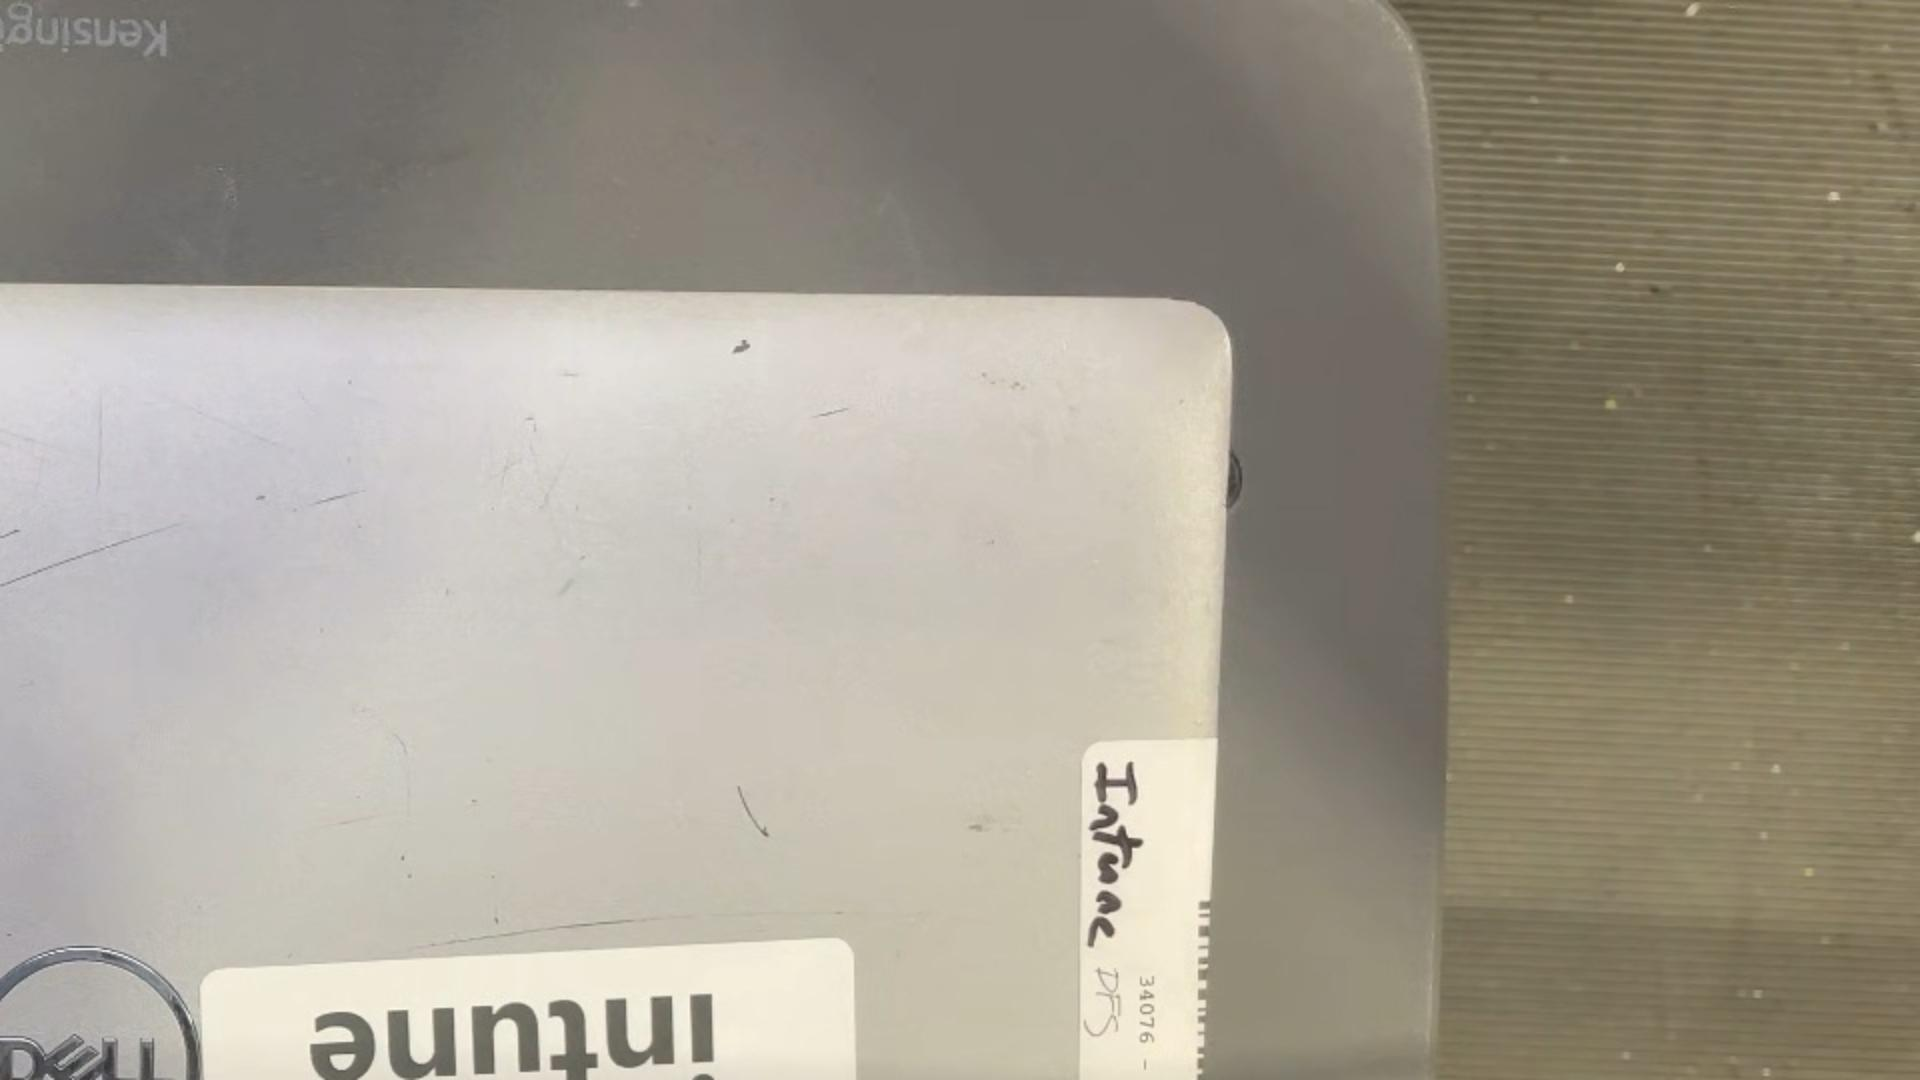chip: (728, 335, 756, 356)
scratches: (414, 910, 857, 952), (0, 520, 185, 591), (160, 393, 301, 458), (527, 443, 558, 534), (388, 728, 413, 820), (735, 782, 773, 840), (293, 487, 368, 513), (538, 451, 570, 512), (319, 812, 386, 832), (0, 439, 50, 465), (0, 426, 54, 450), (34, 429, 47, 492), (487, 459, 524, 481), (95, 393, 103, 492), (810, 405, 853, 421), (500, 448, 510, 488), (696, 530, 703, 592), (0, 527, 22, 542), (255, 495, 268, 502), (560, 372, 580, 377), (522, 417, 537, 422), (533, 422, 538, 434)
